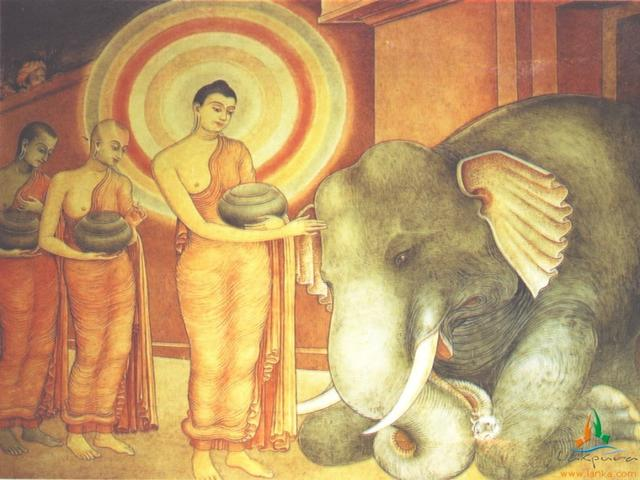elephant: (296, 55, 640, 472)
